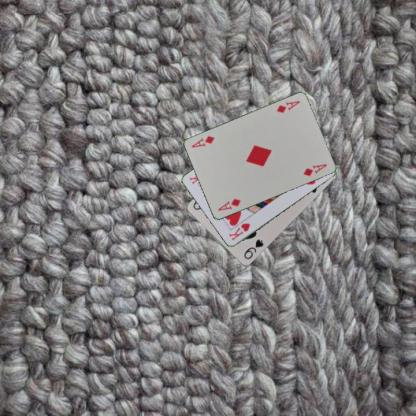9s: (241, 237, 265, 260)
Ad: (274, 98, 301, 114), (216, 196, 242, 212)
Kh: (226, 221, 251, 242)
